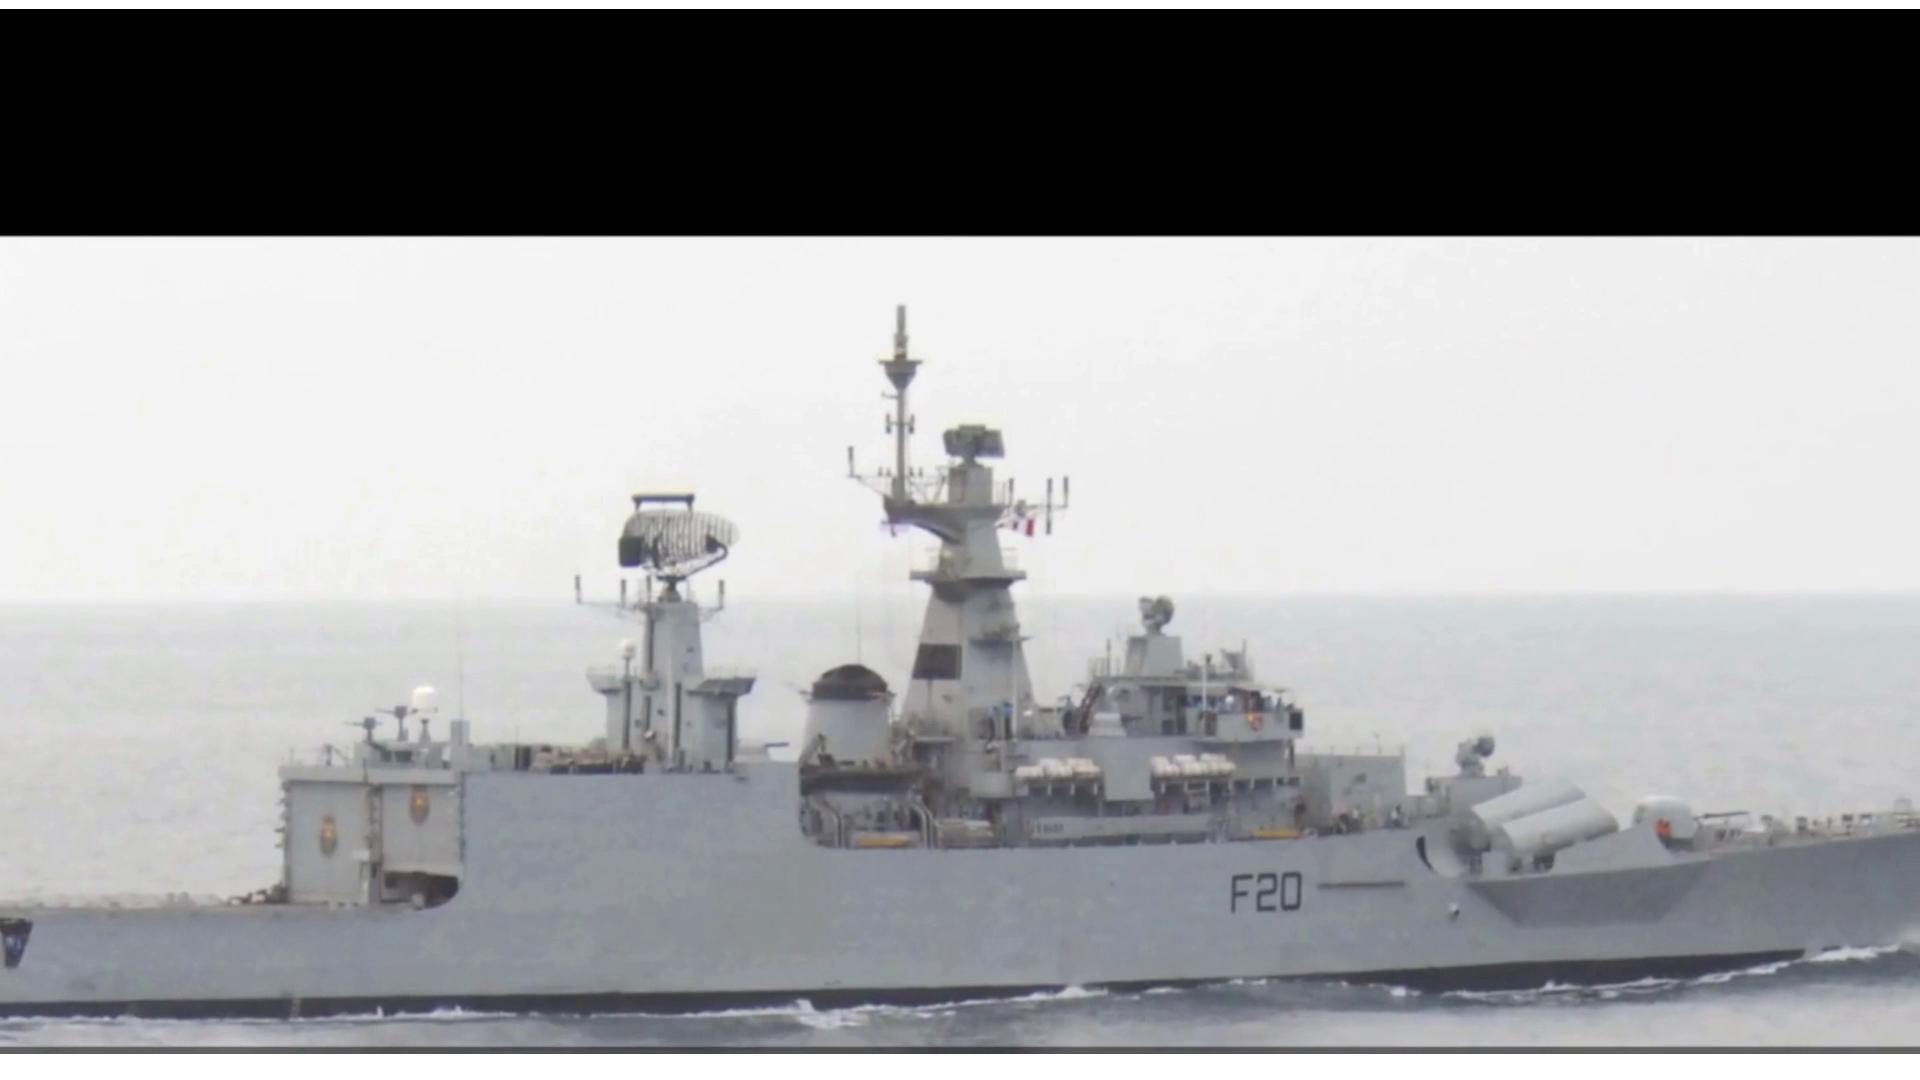OCR: (1209, 860, 1313, 928)
